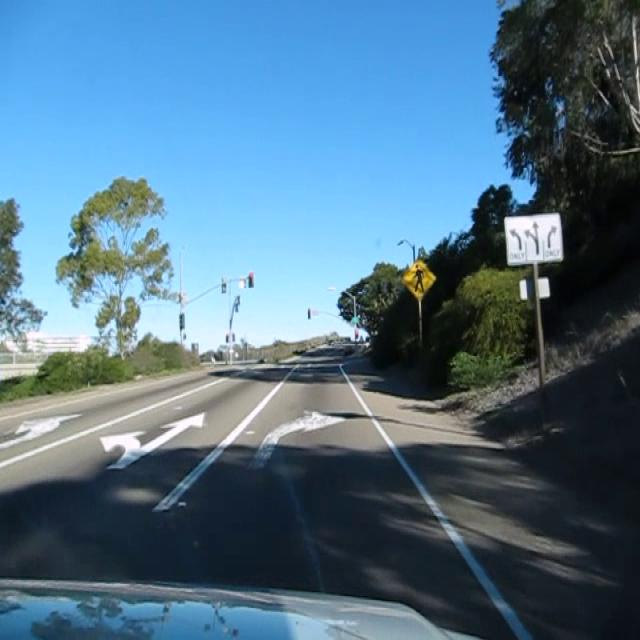pedestrianCrossing: (400, 256, 436, 300)
